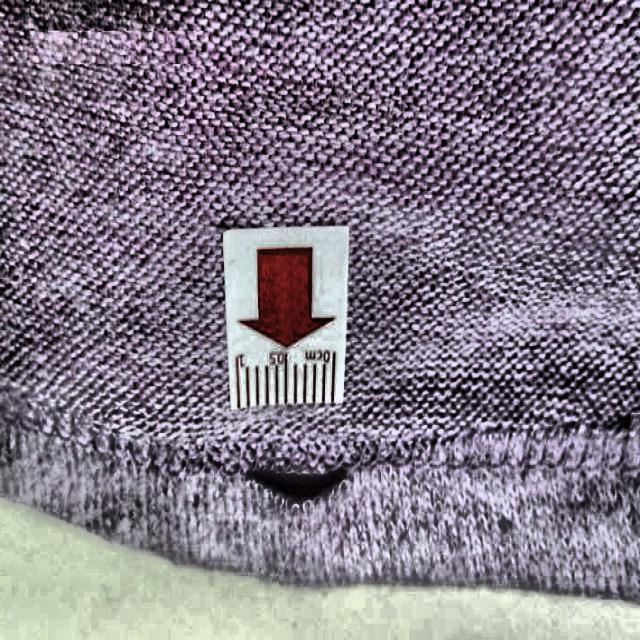seam: (236, 440, 365, 513)
